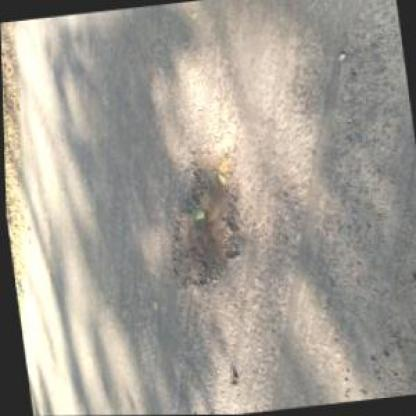pothole: (151, 140, 254, 293)
